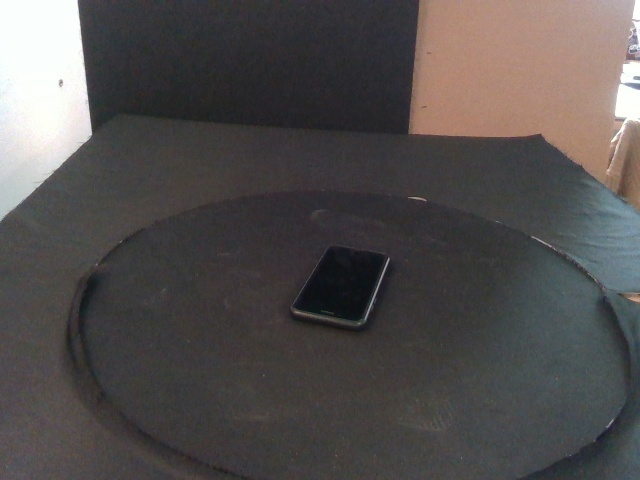phone: (289, 245, 390, 331)
